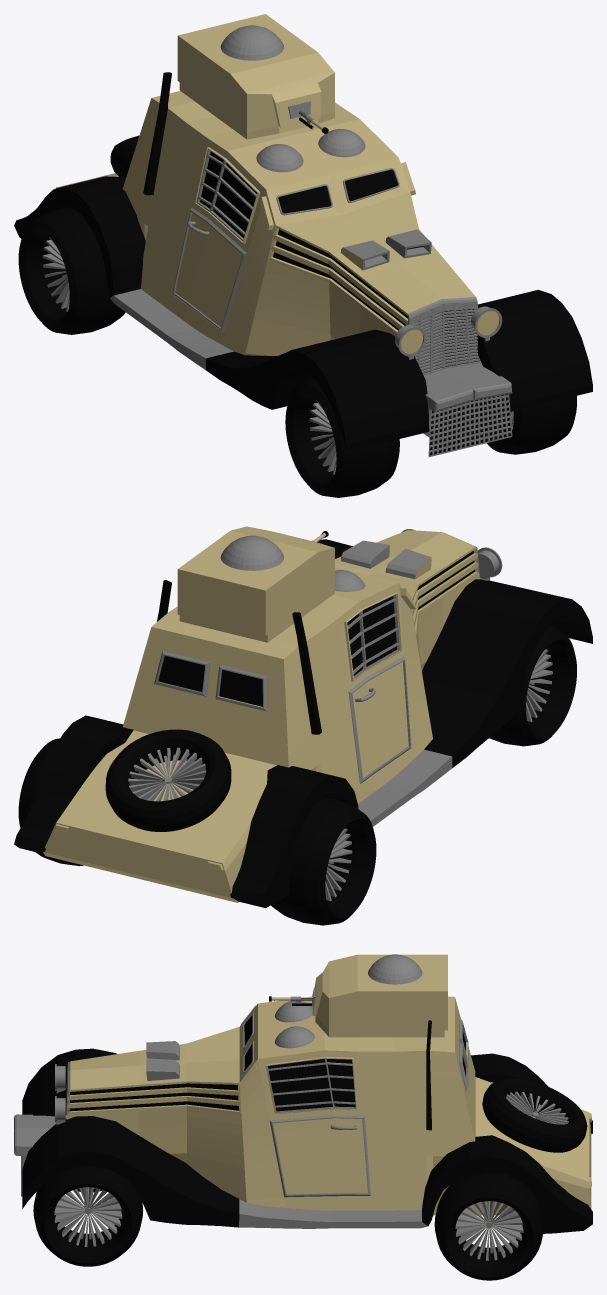
Rendered from MilitaryVehicle.fbx.
3 views of the same model, one above another, from view 1: azimuth 30°, elevation 25°; view 2: azimuth 150°, elevation 25°; view 3: azimuth 270°, elevation 25° (orthographic). The views are drawn at different scales.
Parts seen in each view (by area): view 1: Cube, Cube.001, Torus.003, Torus.005, Torus.004; view 2: Cube, Cube.001, Torus.003, Torus.005, Torus.002; view 3: Cube, Cube.001, Torus.002, Torus.004.
Part boxes in pixels (left/top/right/bottom): Cube: left=14, top=72, right=592, bottom=457; Cube.001: left=177, top=14, right=334, bottom=139; Torus.003: left=18, top=207, right=125, bottom=334; Torus.005: left=285, top=377, right=399, bottom=497; Torus.004: left=487, top=396, right=576, bottom=454; Cube: left=14, top=529, right=592, bottom=908; Cube.001: left=177, top=526, right=334, bottom=642; Torus.003: left=271, top=797, right=376, bottom=925; Torus.005: left=489, top=625, right=576, bottom=746; Torus.002: left=18, top=738, right=83, bottom=866; Cube: left=14, top=996, right=592, bottom=1233; Cube.001: left=269, top=954, right=447, bottom=1037; Torus.002: left=434, top=1172, right=544, bottom=1280; Torus.004: left=33, top=1166, right=143, bottom=1266.
Size of the model in its own units: 260 by 251 by 495.
